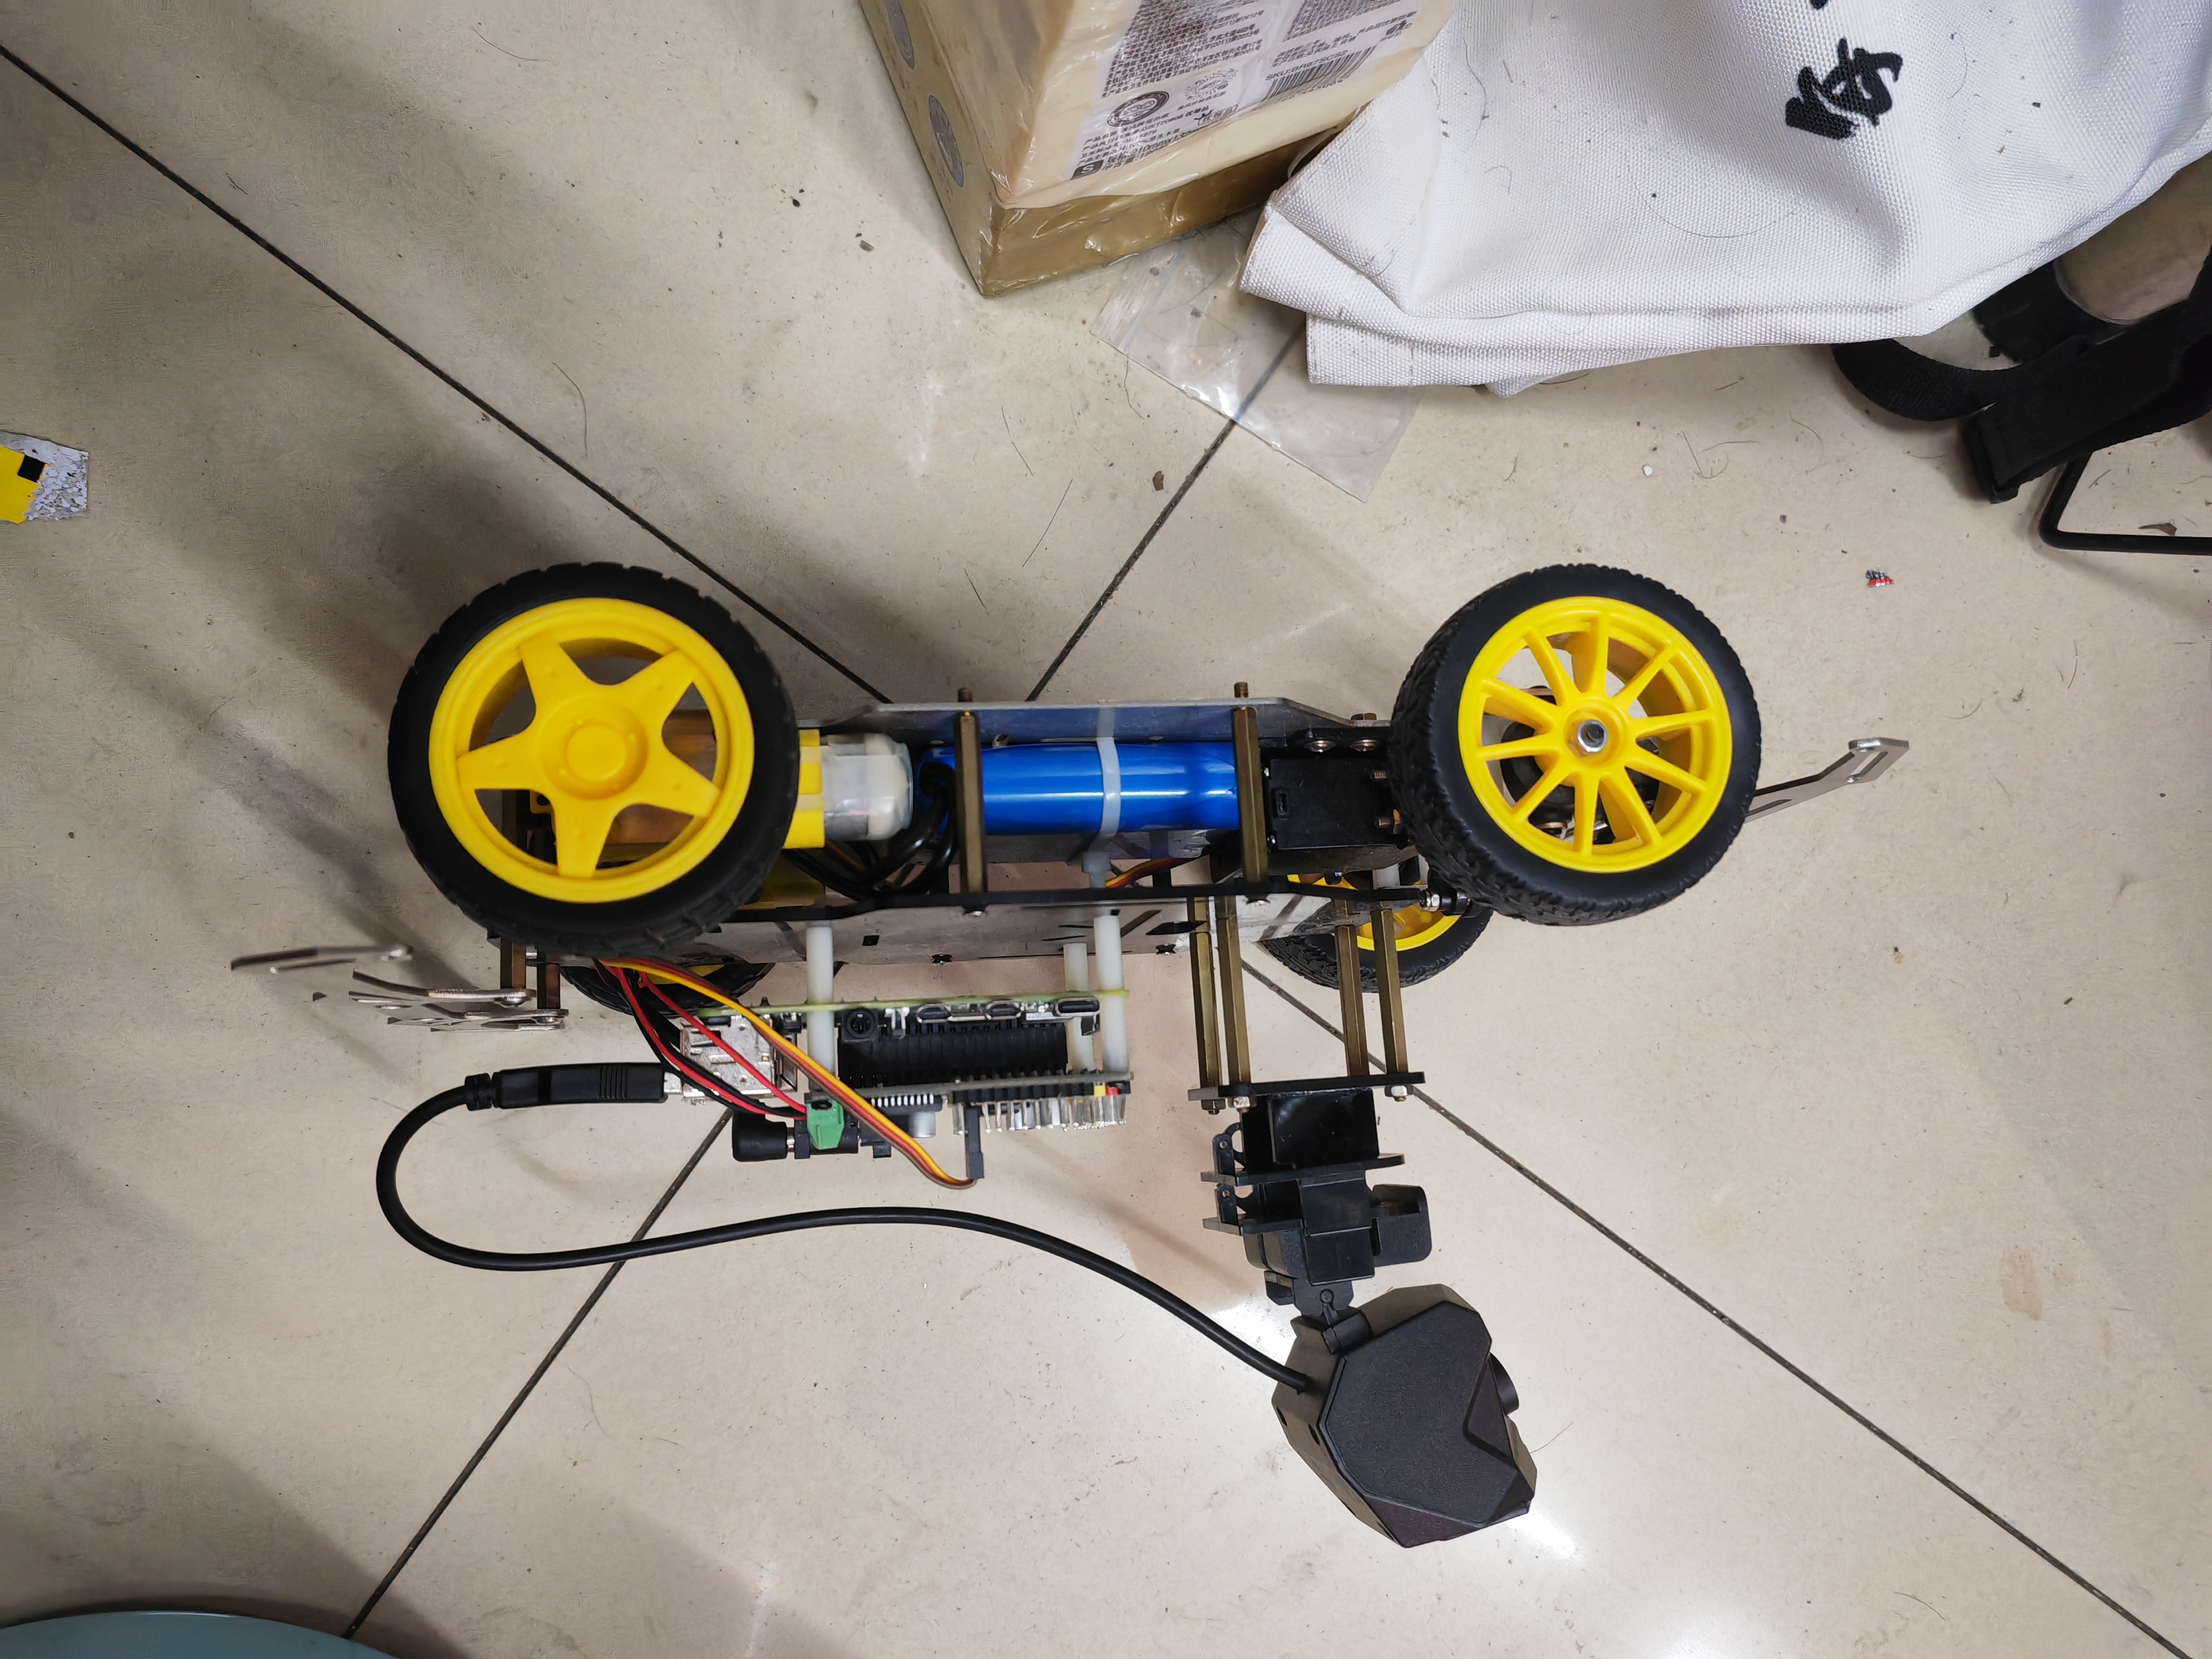car: (286, 549, 1961, 1549)
